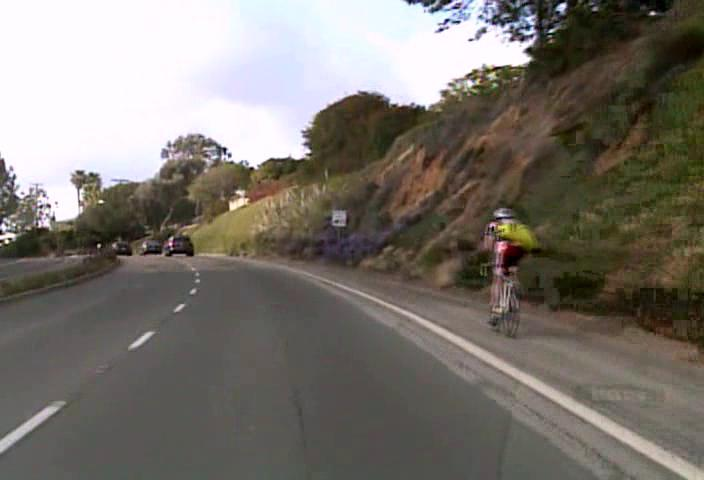speedLimitUrdbl: (330, 208, 346, 227)
